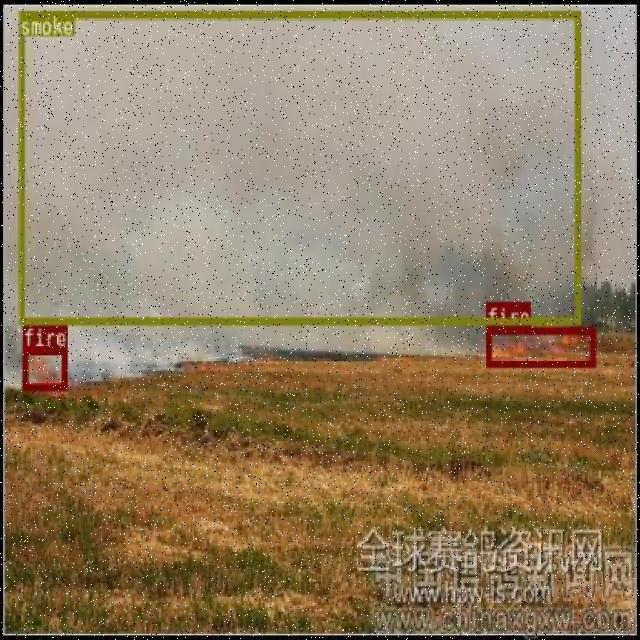Smoke: (18, 0, 579, 259)
